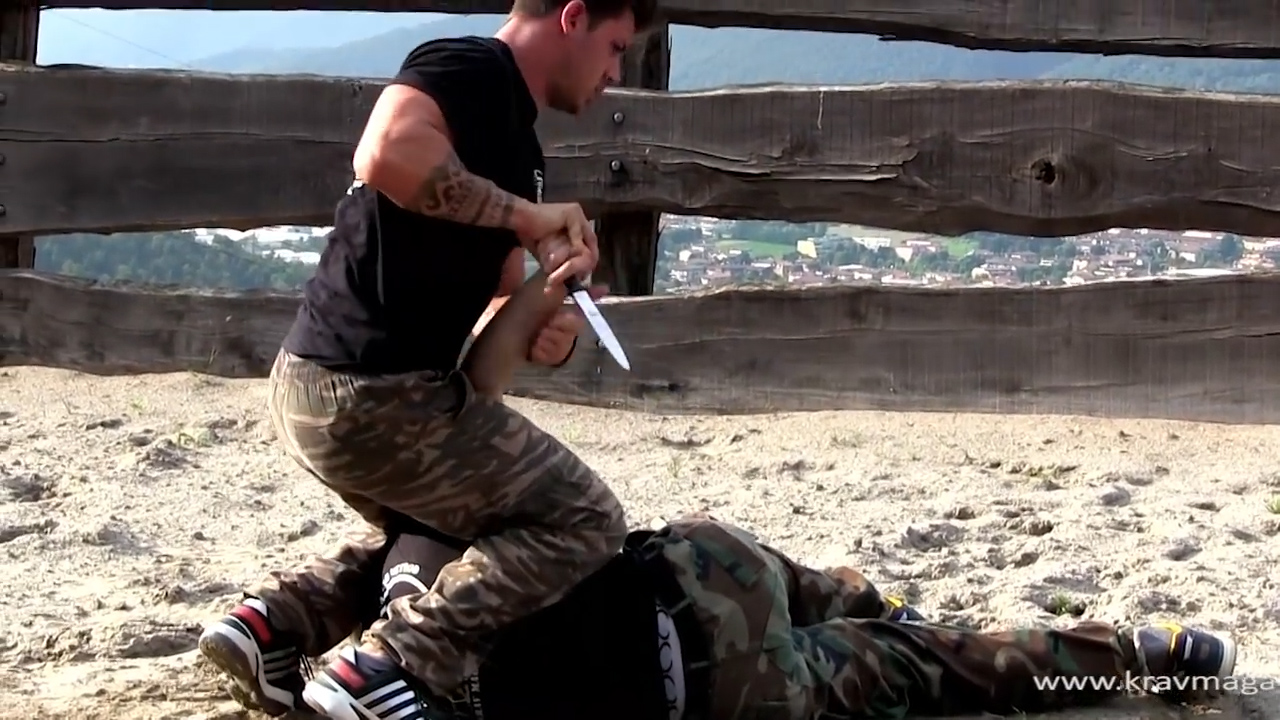knife: (546, 248, 641, 383)
